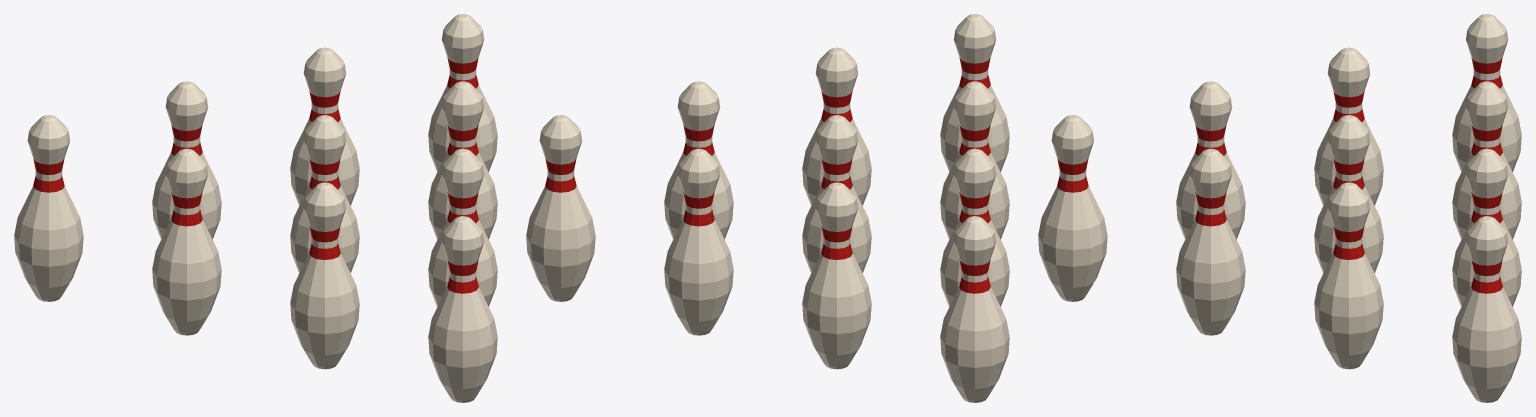
The model's file is BowlingPinRack.fbx.
The picture shows the model from 3 angles, left to right: view 1: azimuth 30°, elevation 25°; view 2: azimuth 150°, elevation 25°; view 3: azimuth 270°, elevation 25°; orthographic projection.
Visible parts, largest first — view 1: Pin_02, Pin_04, Pin_01, Pin_07, Pin_06, Pin_08, Pin_05, Pin_10, Pin_09, Pin_03; view 2: Pin_08, Pin_07, Pin_09, Pin_10, Pin_02, Pin_06, Pin_05, Pin_01, Pin_04, Pin_03; view 3: Pin_06, Pin_03, Pin_10, Pin_01, Pin_02, Pin_08, Pin_05, Pin_07, Pin_09, Pin_04.
Part boxes in pixels (<box>): Pin_02: <box>290,182,359,369</box>; Pin_04: <box>152,148,221,335</box>; Pin_01: <box>428,216,497,402</box>; Pin_07: <box>14,115,83,301</box>; Pin_06: <box>428,81,497,239</box>; Pin_08: <box>152,81,221,239</box>; Pin_05: <box>290,115,359,272</box>; Pin_10: <box>428,14,497,171</box>; Pin_09: <box>290,47,359,205</box>; Pin_03: <box>428,148,497,306</box>; Pin_08: <box>802,182,871,369</box>; Pin_07: <box>940,216,1009,402</box>; Pin_09: <box>664,148,733,335</box>; Pin_10: <box>526,115,595,301</box>; Pin_02: <box>940,81,1009,239</box>; Pin_06: <box>664,81,733,239</box>; Pin_05: <box>802,115,871,272</box>; Pin_01: <box>940,14,1009,171</box>; Pin_04: <box>940,148,1009,306</box>; Pin_03: <box>802,47,871,205</box>; Pin_06: <box>1314,182,1383,369</box>; Pin_03: <box>1176,148,1245,335</box>; Pin_10: <box>1452,216,1521,402</box>; Pin_01: <box>1038,115,1107,301</box>; Pin_02: <box>1176,81,1245,239</box>; Pin_08: <box>1452,81,1521,239</box>; Pin_05: <box>1314,115,1383,272</box>; Pin_07: <box>1452,14,1521,171</box>; Pin_09: <box>1452,148,1521,306</box>; Pin_04: <box>1314,47,1383,205</box>.
Size of the model in its own units: 1.05 by 0.38 by 0.9249.
1 material, 1 textured.
